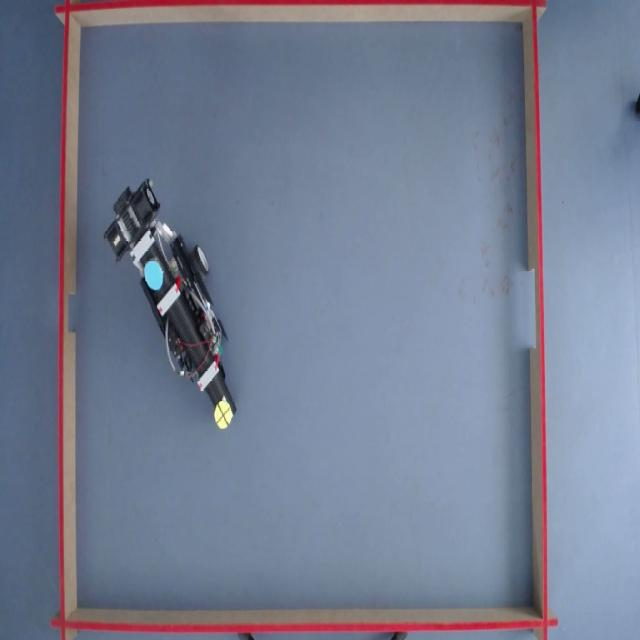robot: (102, 174, 238, 426)
robot-front: (213, 399, 233, 429)
robot-rear: (143, 258, 164, 290)
